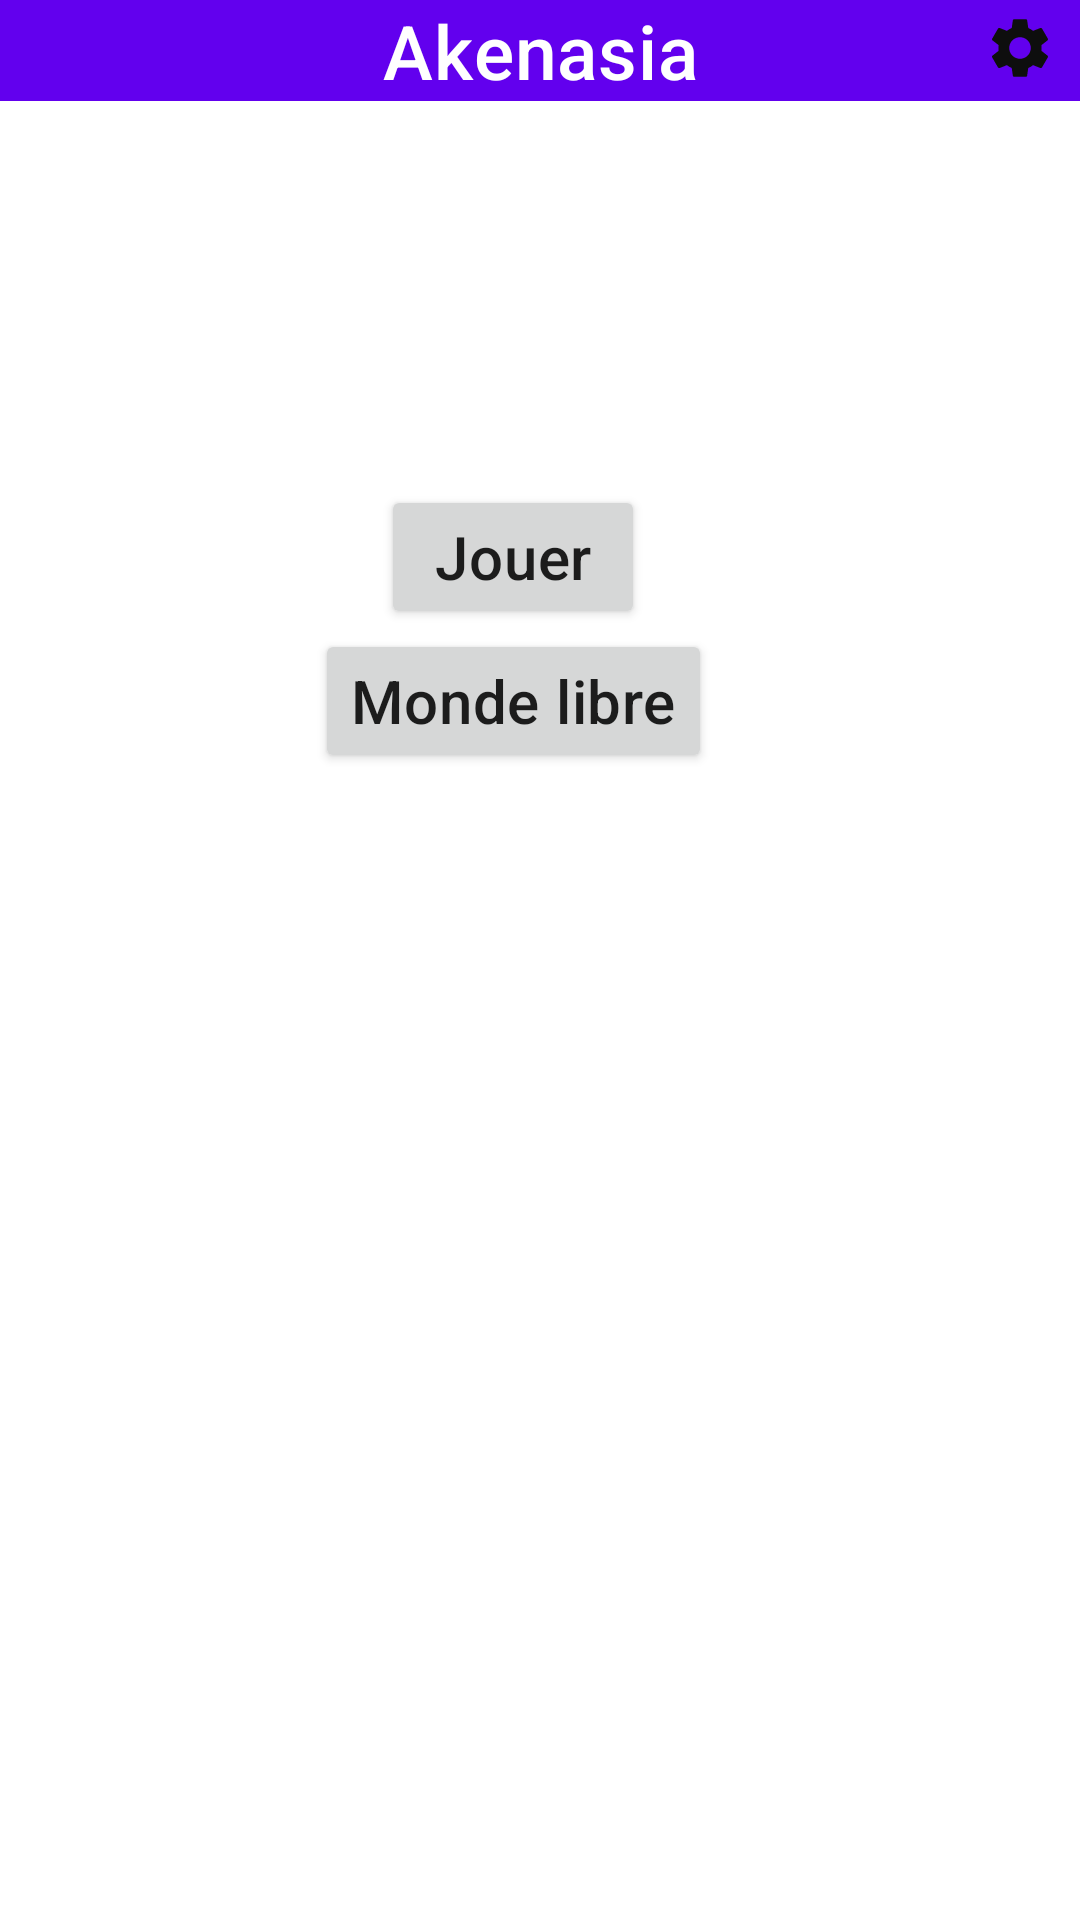

Locate icon controls on the screen. Image size 1080×1920, boxes as (x1, y1, x2, y2).
settings: (992, 19, 1048, 77)
